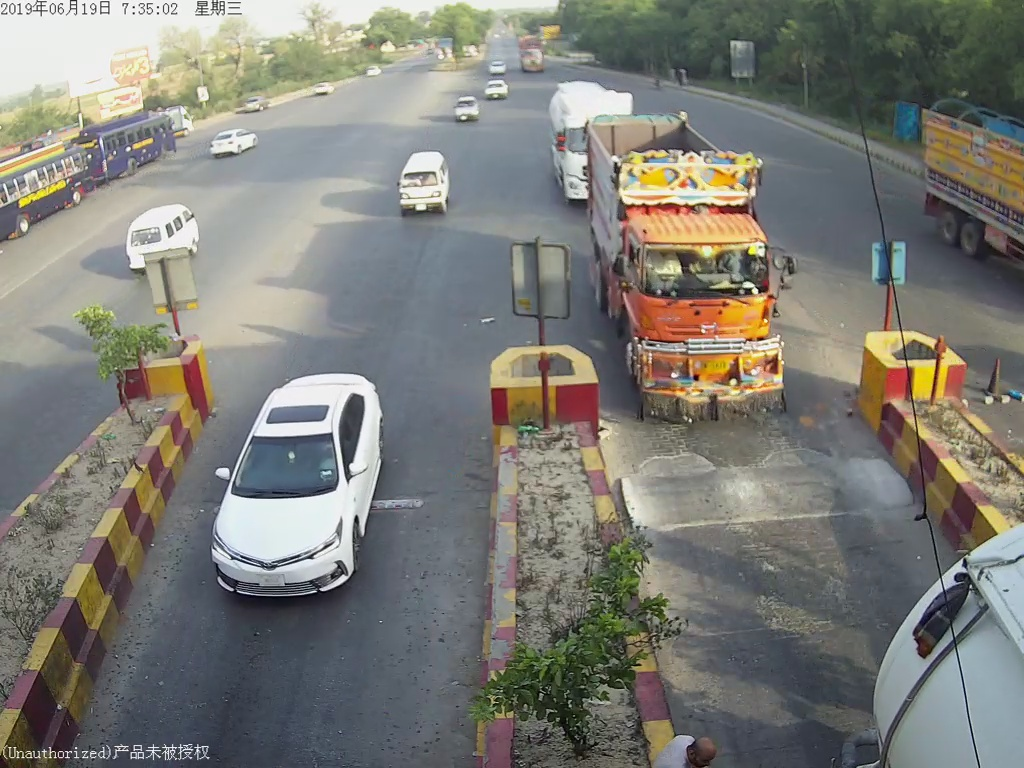Cat-1: (212, 359, 397, 607), (398, 154, 453, 222)
Cat-4: (590, 124, 792, 422)
